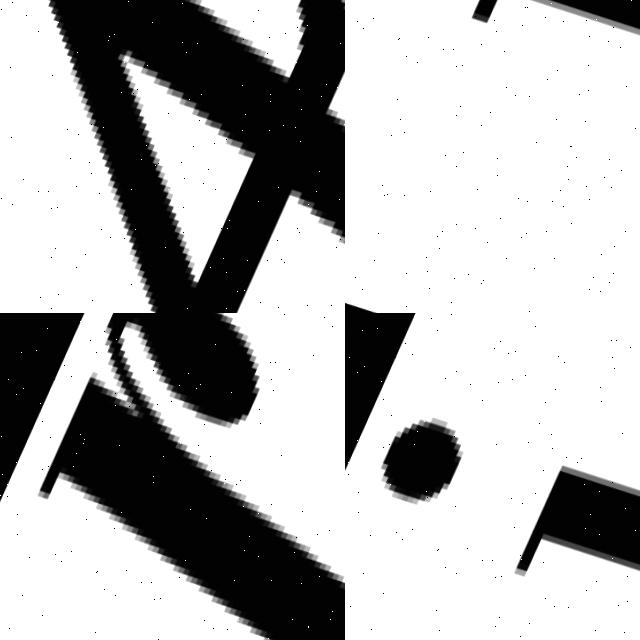I: (345, 336, 640, 640)
J: (345, 0, 640, 235)
R: (0, 313, 345, 640)
